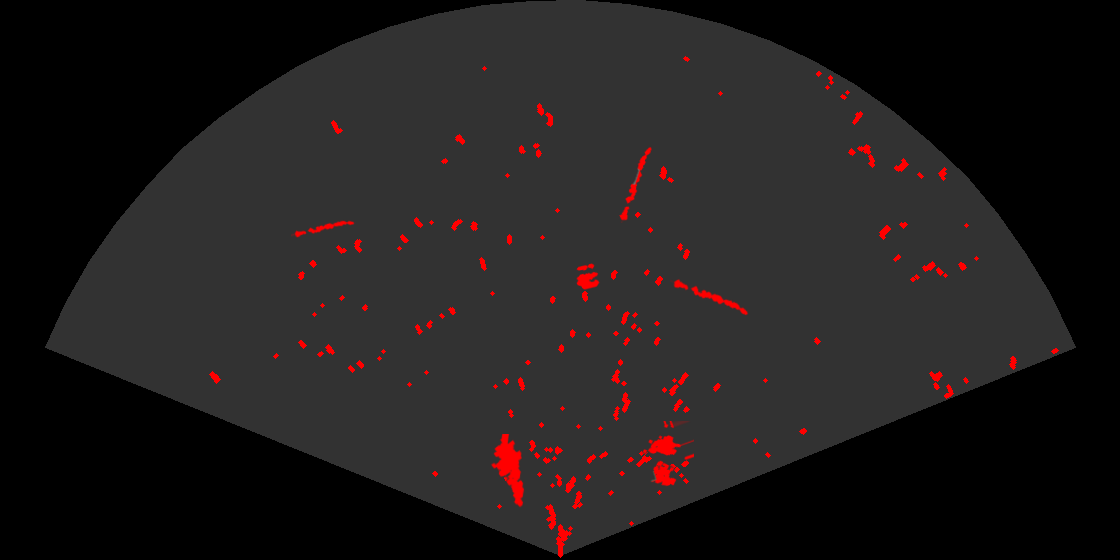ball: (575, 262, 601, 291)
cage: (641, 421, 694, 488)
chain: (670, 278, 750, 317), (618, 145, 653, 223), (291, 219, 356, 239)
frogman: (489, 434, 526, 508)
